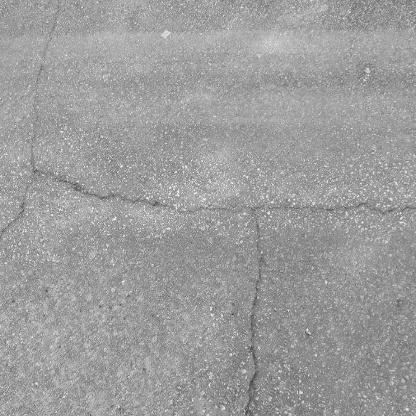Cracks: (0, 174, 416, 223), (237, 208, 266, 416)
